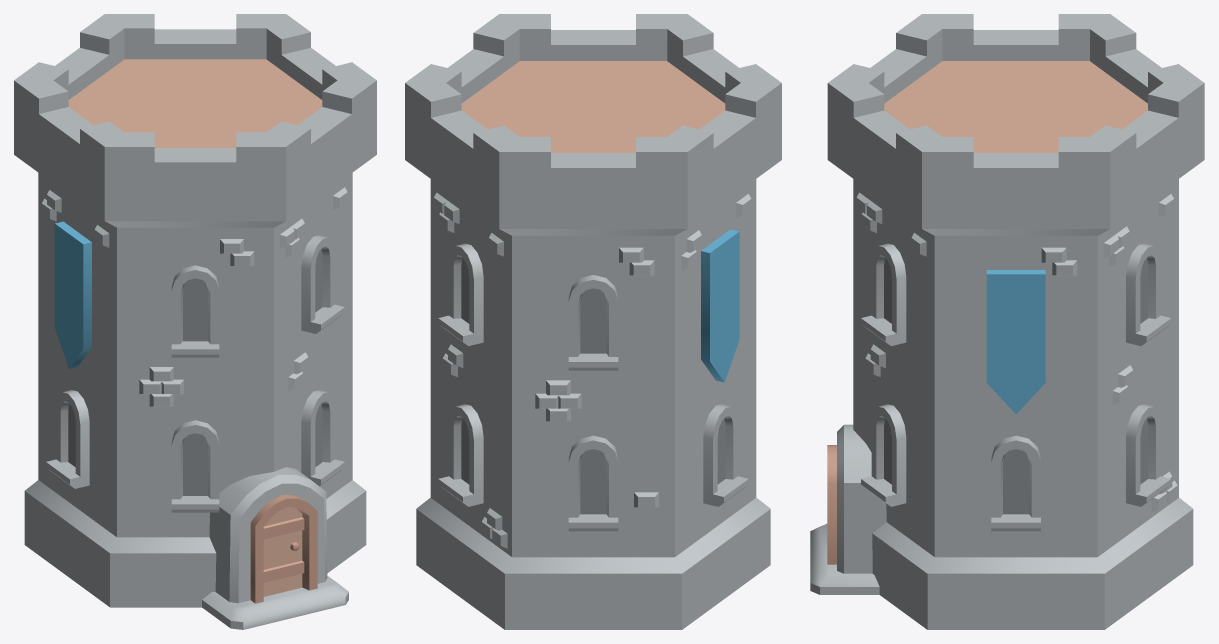
Rendered from tower_base_part.glb.
The picture shows the model from 3 angles, left to right: view 1: azimuth 30°, elevation 25°; view 2: azimuth 150°, elevation 25°; view 3: azimuth 270°, elevation 25°; orthographic projection. The views are drawn at different scales.
Parts seen in each view (by area): view 1: X_building_tower_base_blue; view 2: X_building_tower_base_blue; view 3: X_building_tower_base_blue.
Boxes of the visible parts, left/top/right/bottom form: X_building_tower_base_blue: left=14, top=14, right=376, bottom=629; X_building_tower_base_blue: left=405, top=14, right=781, bottom=629; X_building_tower_base_blue: left=810, top=14, right=1204, bottom=629.
Bounding box in the file's own units: 0.9298 × 1.5 × 1.11.
